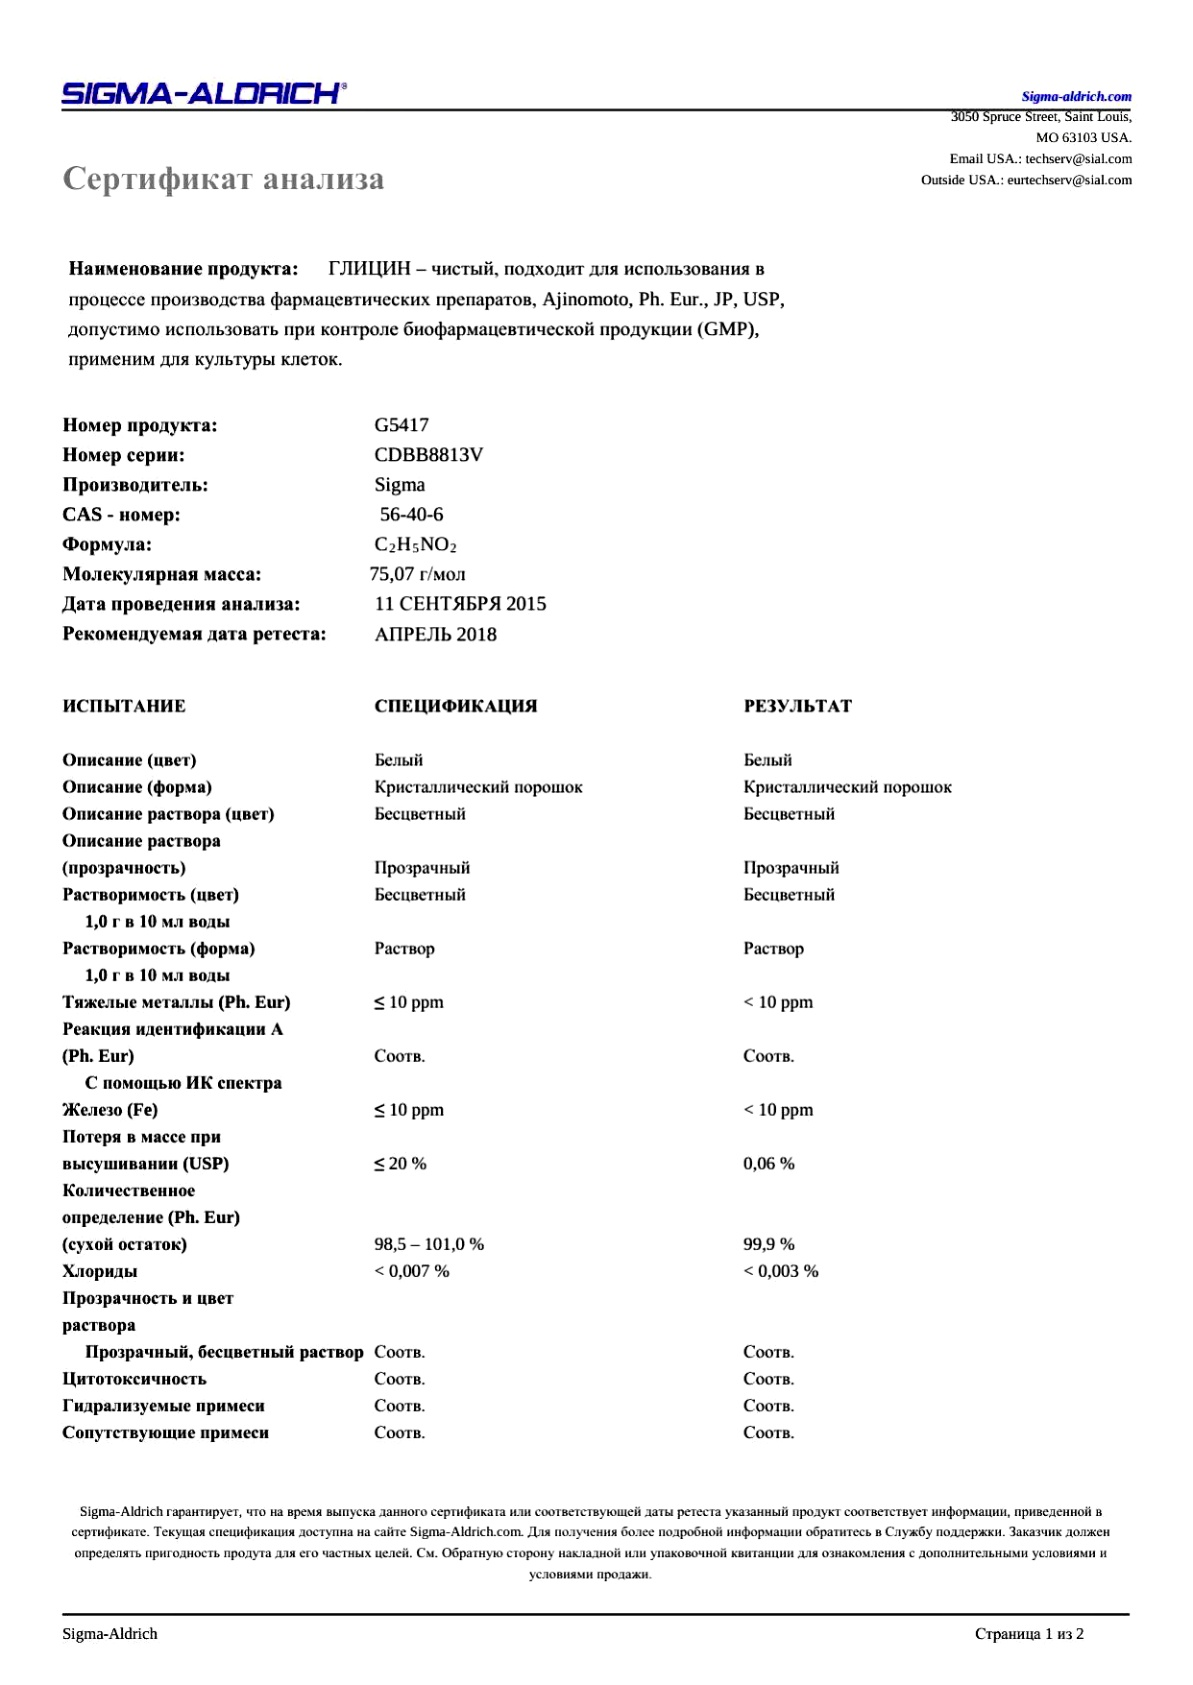nolines: (59, 697, 953, 1444), (61, 416, 547, 646)
